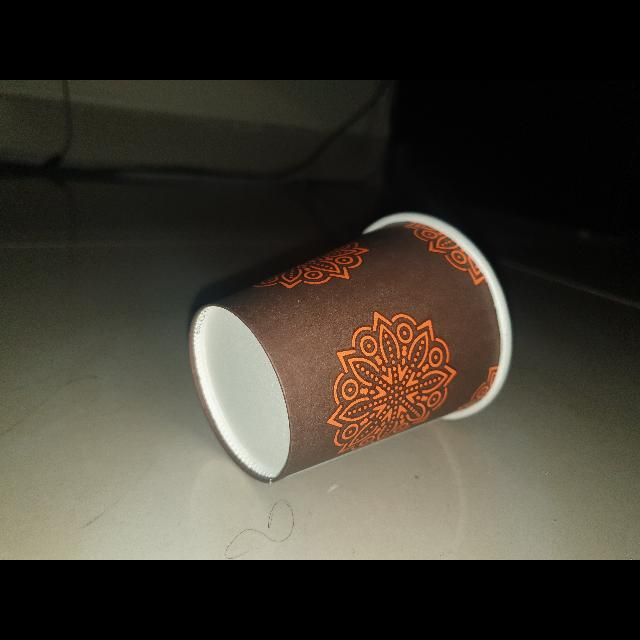trash: (183, 202, 517, 490)
